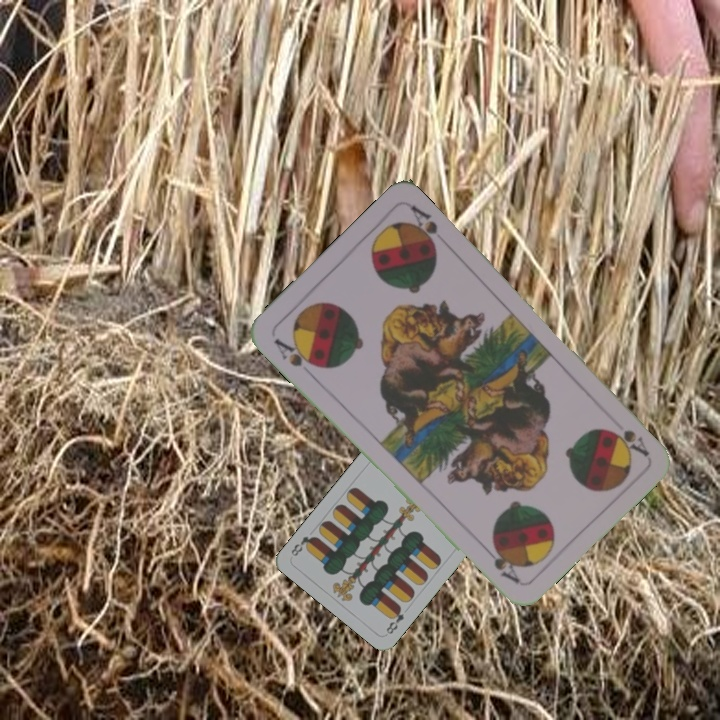E8: (382, 602, 407, 637)
SA: (269, 334, 322, 371), (605, 424, 652, 459)
